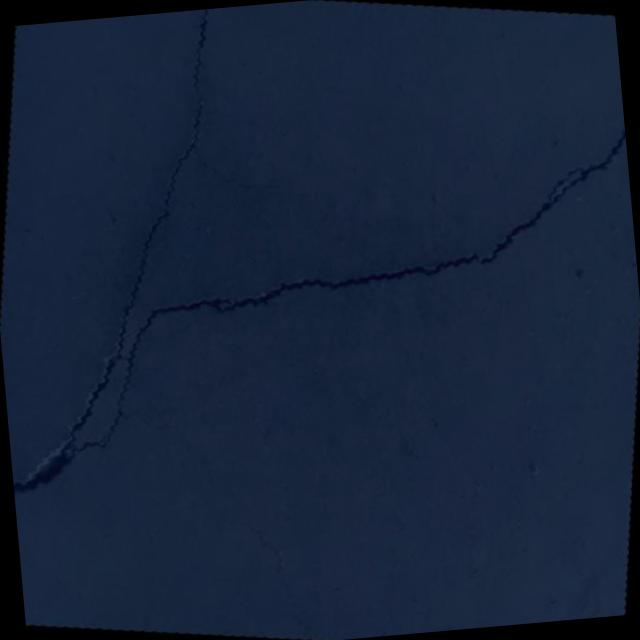crack: (0, 0, 640, 603), (212, 510, 333, 640)
